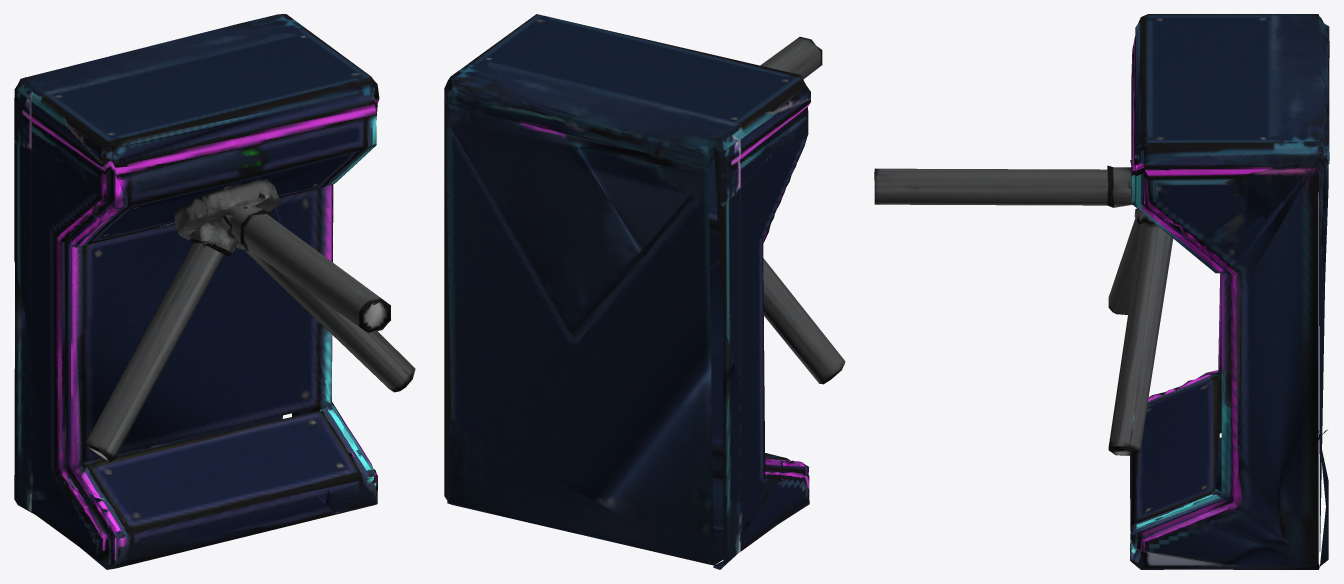
File: molinete-entrada.glb
3 views of the same model, side by side, from view 1: azimuth 30°, elevation 25°; view 2: azimuth 150°, elevation 25°; view 3: azimuth 270°, elevation 25° (orthographic).
Bounding box in the file's own units: 1.6 × 2 × 1.94.
1 material, 1 textured.
